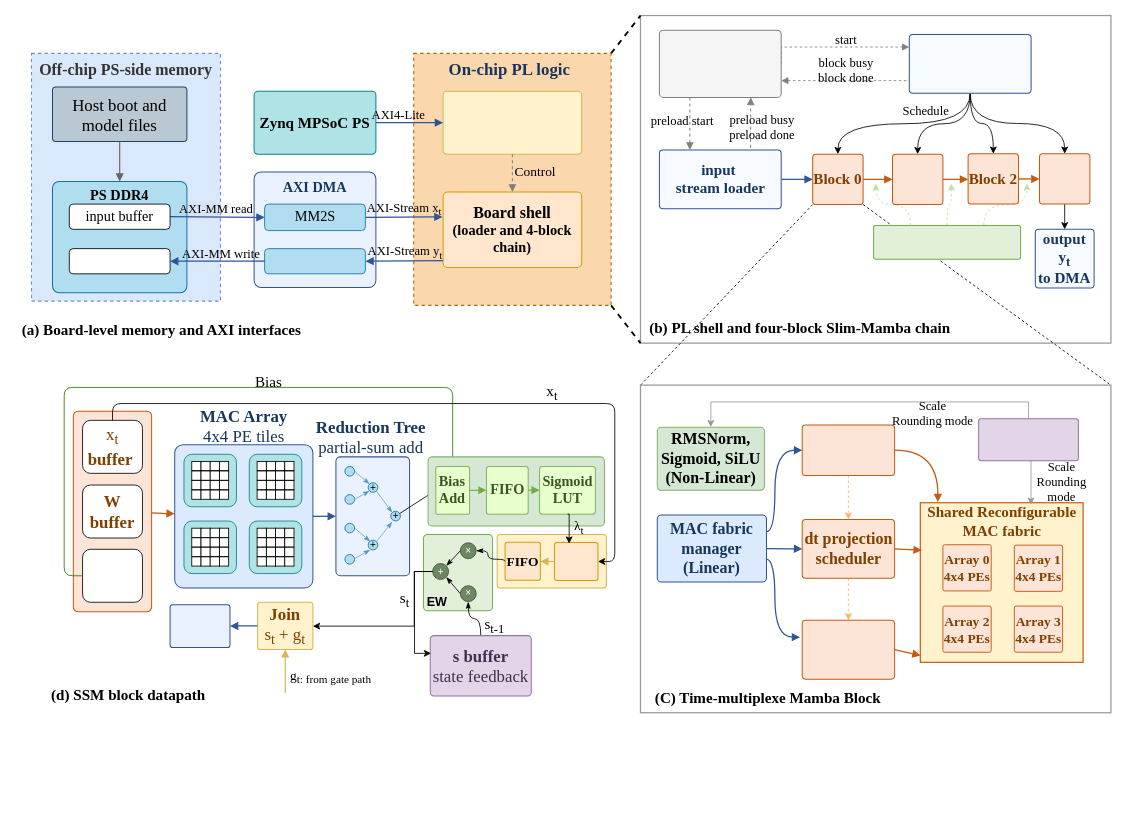
Some shapes in this 1126 by 828 pixel diagram are drawn without their labels. Here are the shapes that lost their labels. From the top down, the centre of each, then its label:
At point 719,63: "AXI-Lite CSR start after preload busy / done / irq".
At point 969,63: "4-block Controller".
At point 512,122: "AXI-Lite CSR start / status / irq".
At point 917,179: "Block 1".
At point 1064,178: "Block 3".
At point 119,261: "output buffer".
At point 314,261: "S2MM".
At point 947,242: "residual add and preload".
At point 848,450: "in projection scheduler".
At point 1028,439: "Quantization Engine".
At point 112,575: "bias buffer".
At point 576,561: "Join λ t + x t".
At point 199,626: "output y t".
At point 848,649: "out projection scheduler".
